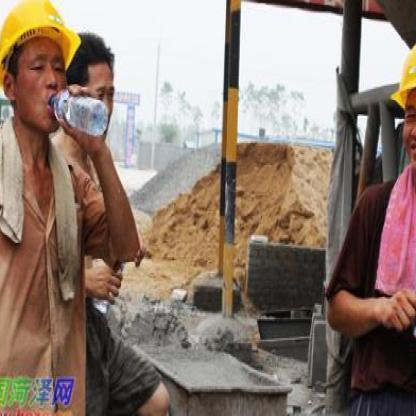head: (64, 27, 124, 149)
helmet: (0, 0, 83, 133), (390, 24, 416, 186)
